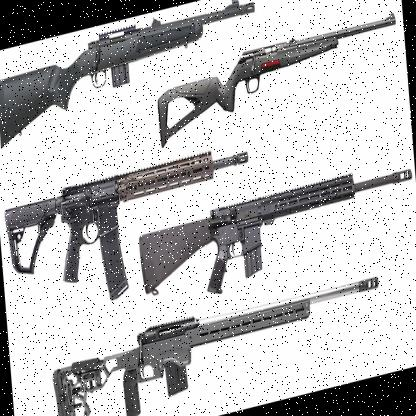rifle: (44, 261, 387, 416), (135, 155, 416, 309), (148, 10, 404, 146), (0, 139, 252, 264), (0, 0, 261, 110)
